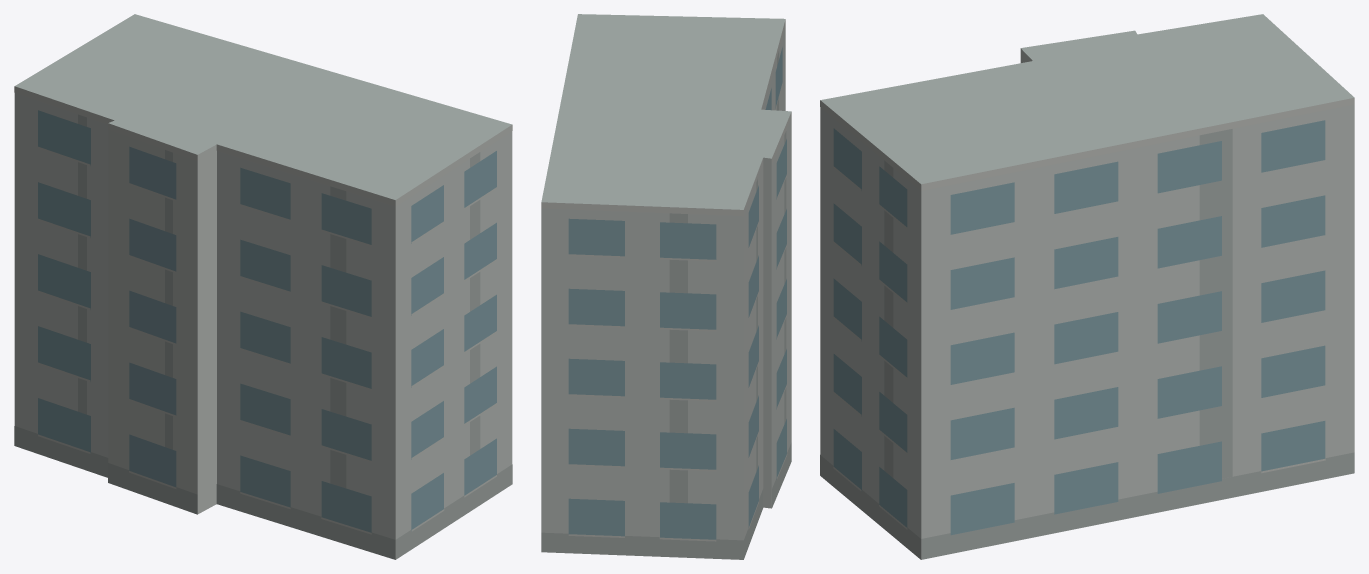
The model's file is survey-upis-32477327.glb.
3 renders of one model, left to right at view 1: azimuth 30°, elevation 25°; view 2: azimuth 150°, elevation 25°; view 3: azimuth 270°, elevation 25°, orthographic. The views are drawn at different scales.
Parts seen in each view (by area): view 1: survey-upis-32477327.tmp; view 2: survey-upis-32477327.tmp; view 3: survey-upis-32477327.tmp.
Boxes of the visible parts, box(x1,y1,x2,y2) form: survey-upis-32477327.tmp: box(14, 14, 512, 559); survey-upis-32477327.tmp: box(541, 14, 791, 559); survey-upis-32477327.tmp: box(820, 14, 1354, 559).
Size of the model in its own units: 13.23 by 13.6 by 17.55.
